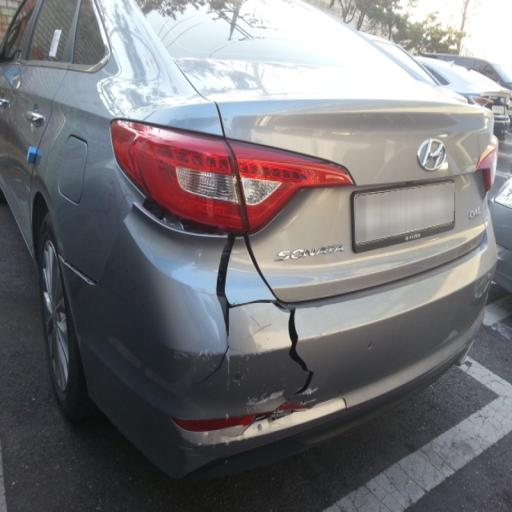broken: (146, 68, 357, 444)
